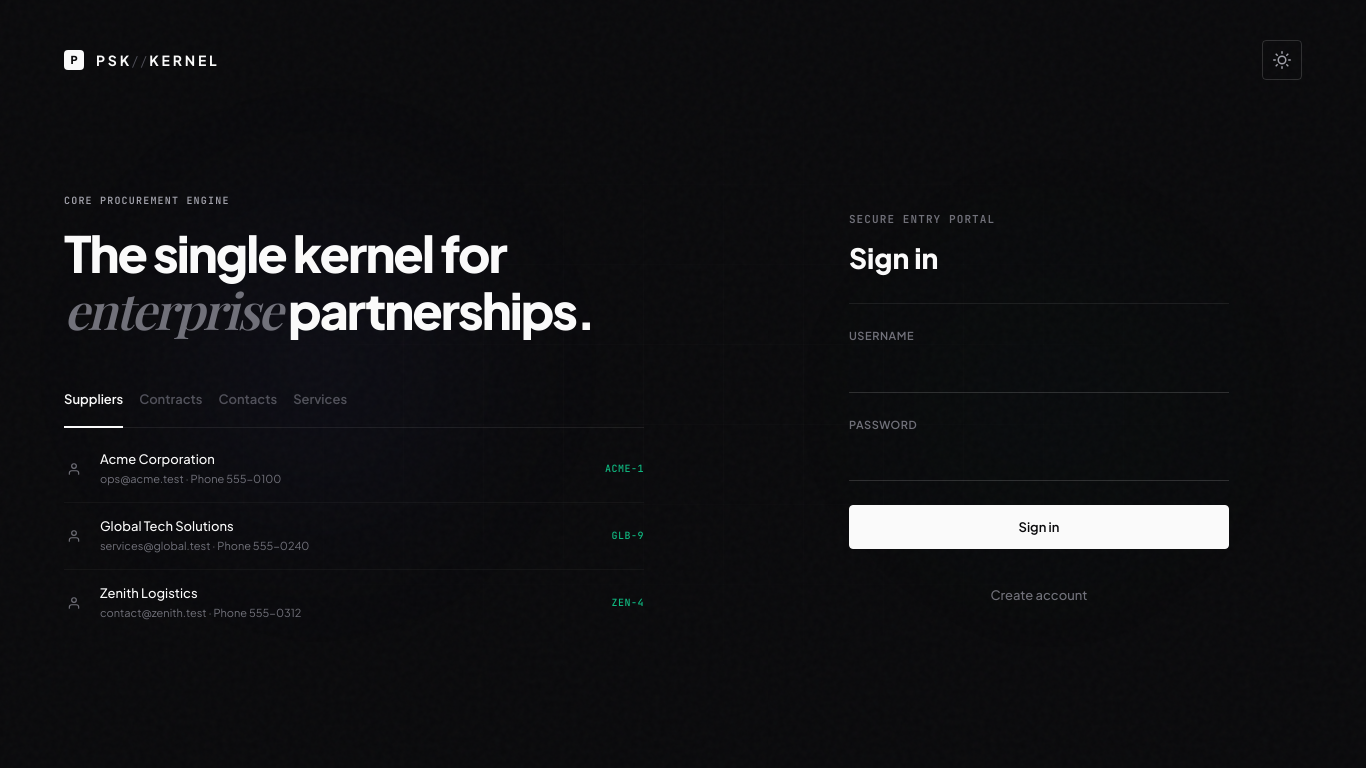
Test case: AuthScreen › switches the sandbox preview tabs
Expected: the text "Acme Corporation" is shown, [100,450,215,466]
Step 1. Click the button "Contracts" → (171,398), box [139,386,203,410]
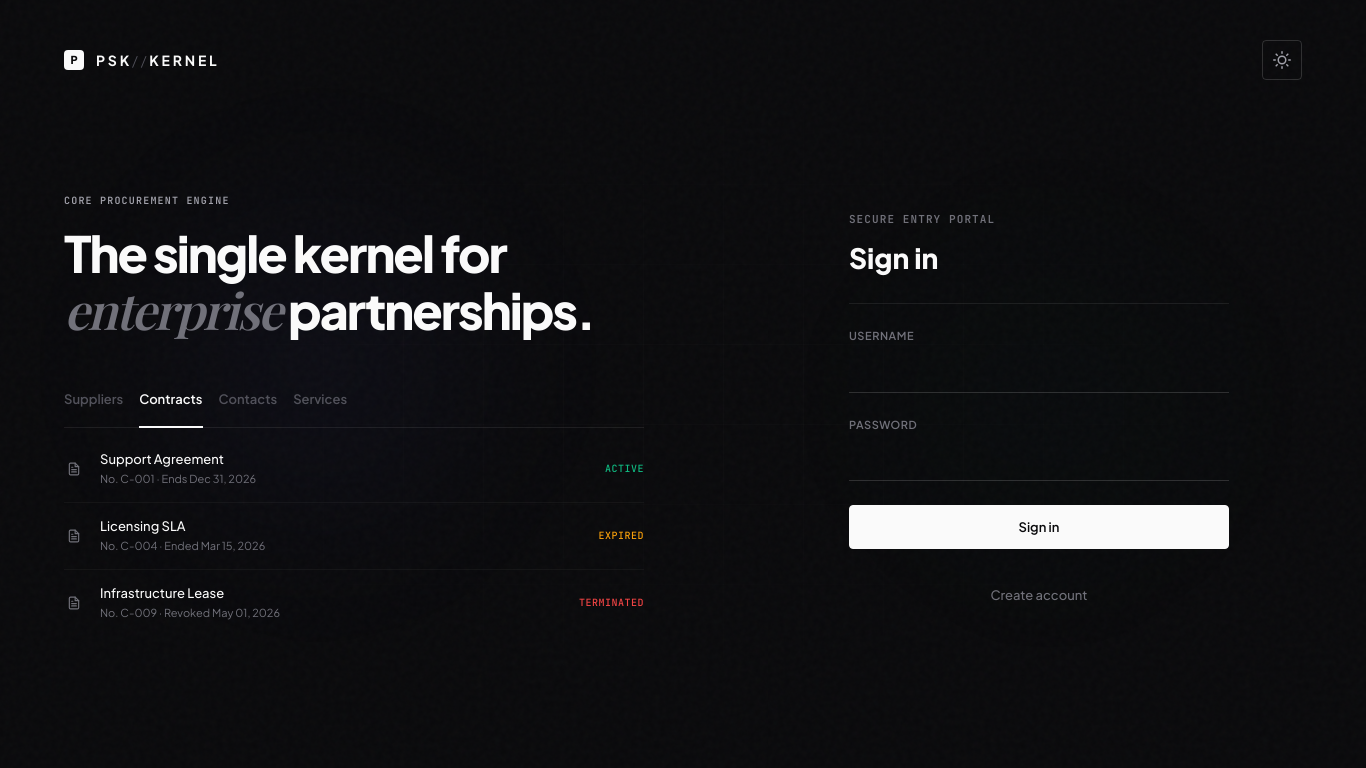
Expected: the text "Support Agreement" is shown, [100,450,224,466]
Expected: the text "Licensing SLA" is shown, [100,518,186,534]
Step 2. Click the button "Contacts" → (248,398), box [218,386,277,410]
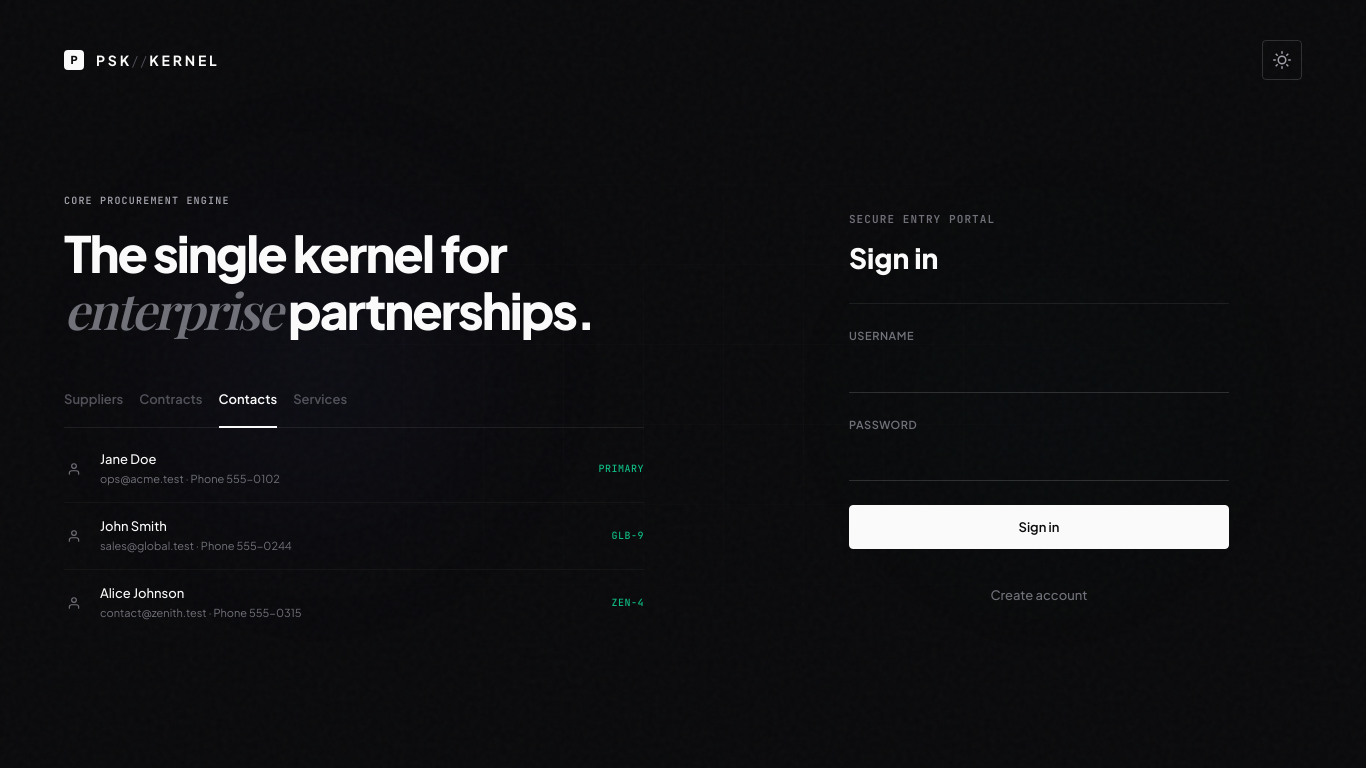
Expected: the text "Jane Doe" is shown, [100,450,156,466]
Expected: the text "Alice Johnson" is shown, [100,584,184,600]
Step 3. Click the button "Services" → (320,398), box [293,386,347,410]
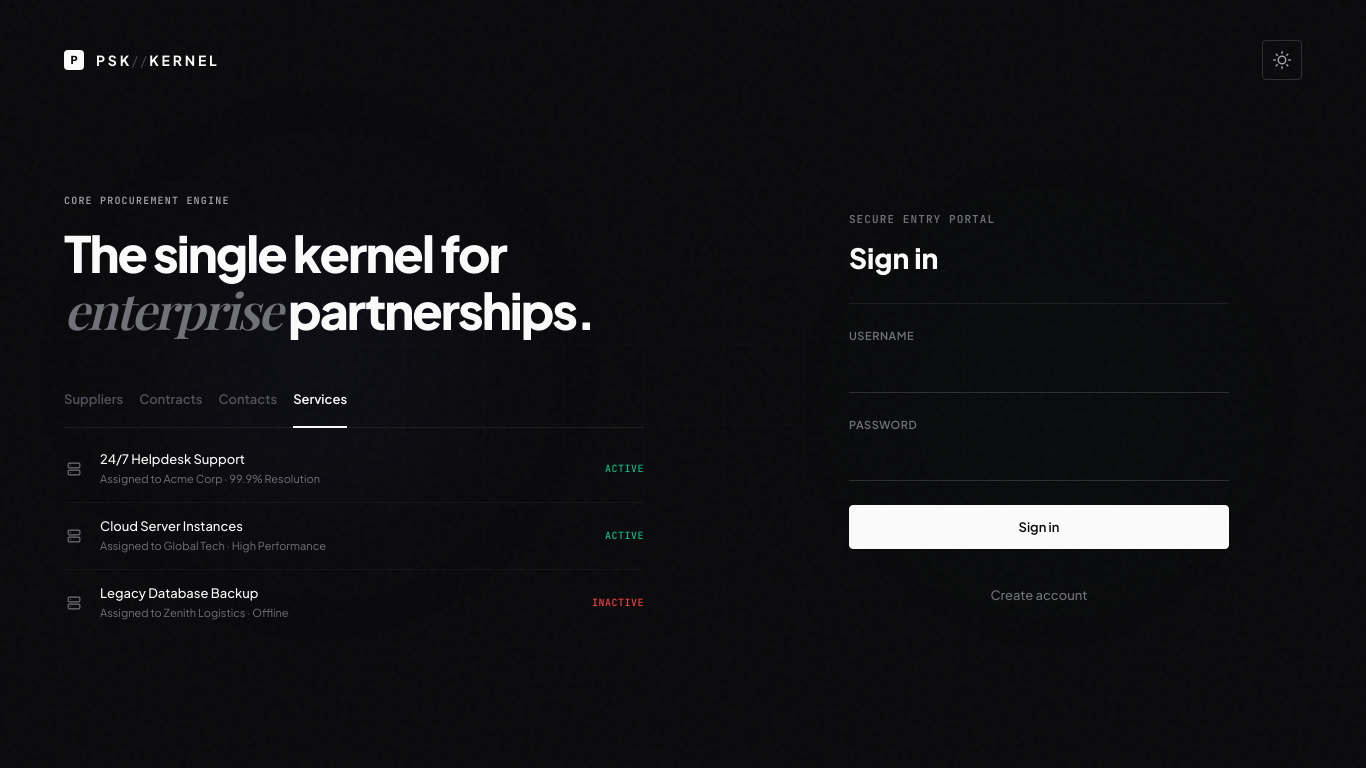
Expected: the text "24/7 Helpdesk Support" is shown, [100,450,245,466]
Expected: the text "Legacy Database Backup" is shown, [100,584,258,600]
Step 4. Click the button "Suppliers" → (94,398), box [64,386,123,410]
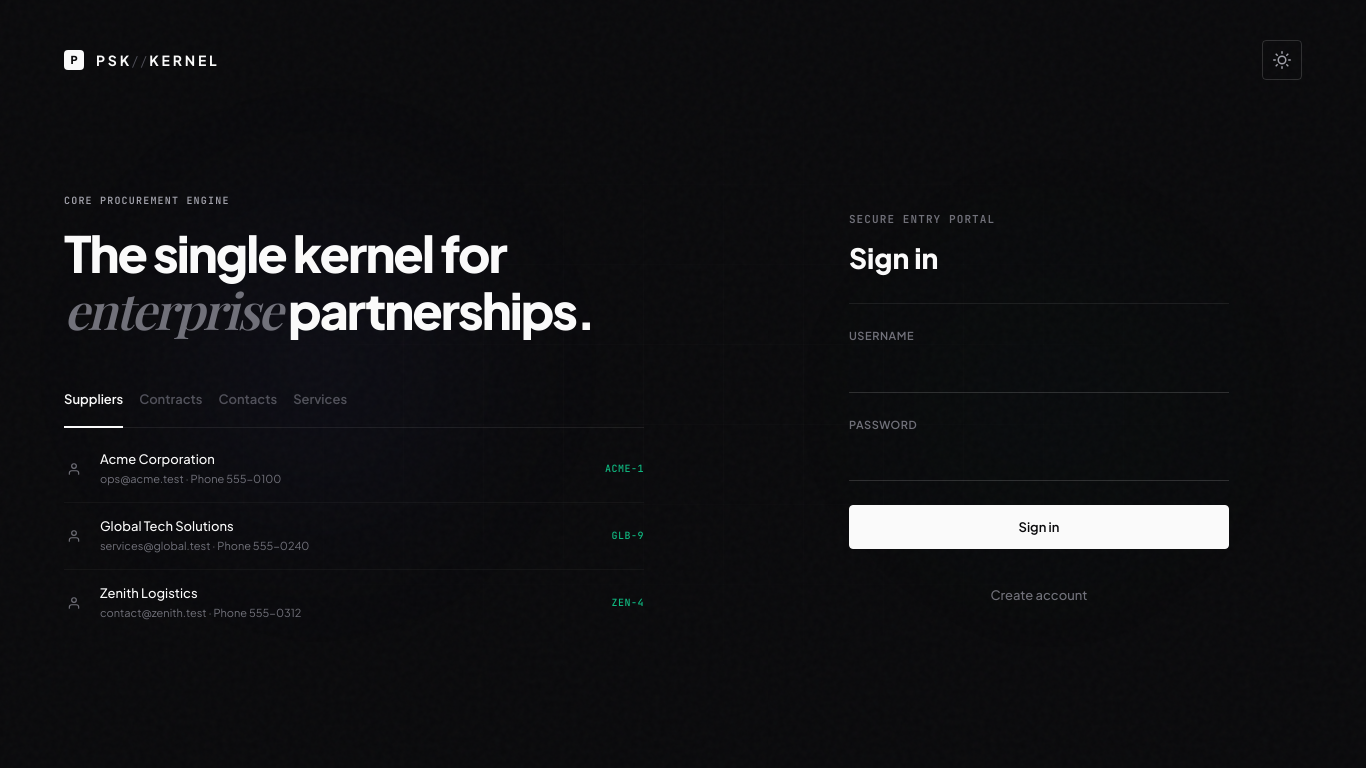
Expected: the text "Global Tech Solutions" is shown, [100,518,234,534]
